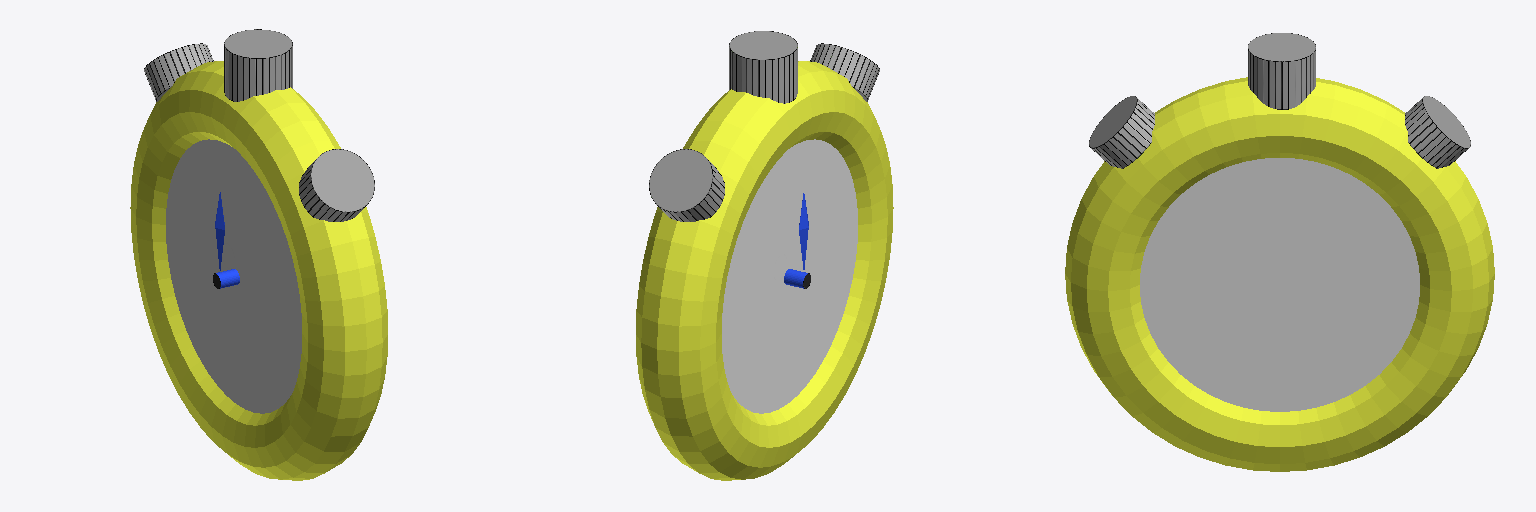
3 renders of one model, left to right at view 1: azimuth 30°, elevation 25°; view 2: azimuth 150°, elevation 25°; view 3: azimuth 270°, elevation 25°, orthographic.
Visible parts, largest first — view 1: 円柱.002; view 2: 円柱.002; view 3: 円柱.002.
Boxes of the visible parts, x1,y1,x2,y2 form: 円柱.002: [130, 29, 387, 480]; 円柱.002: [636, 31, 893, 480]; 円柱.002: [1065, 33, 1494, 471].
Size of the model in its own units: 0.5463 by 2.7 by 2.5.
Materials: 1 (1 with a texture image).